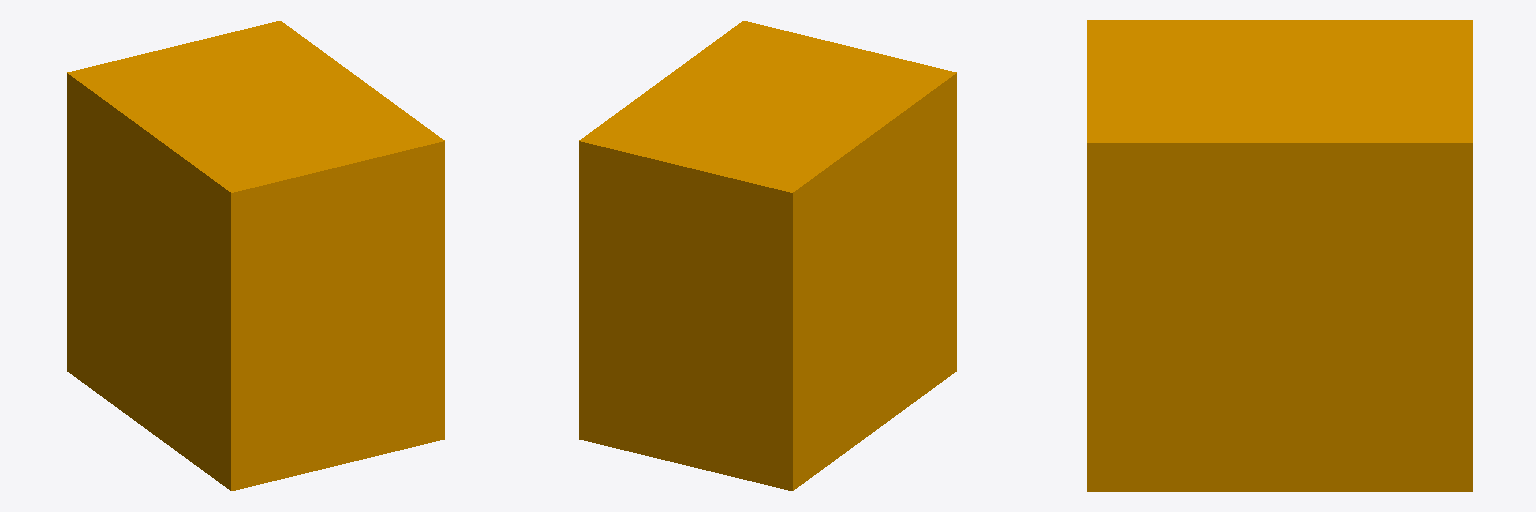
robot.urdf — box:
<robot name="box">

    <!-- <link name="world"/>
  
    <joint name="world_to_base_link" type="fixed">
      <origin xyz="0 0 0" rpy="0 0 0"/>
      <parent link="world"/>
      <child link="mustard_bottle"/>
    </joint> -->
  
    <link name="box_link">
      <inertial>
        <origin xyz="0 0 0.2" />
        <mass value="1.0" />
        <inertia  ixx="0.010" ixy="0.0"  ixz="0.0"  iyy="0.010"  iyz="0.0"  izz="0.010" />
      </inertial>
      <visual>
        <origin xyz="0 0 0.2"/>
        <geometry>
          <box size="0.3 0.4 0.4"/>
        </geometry>
      </visual>
      <collision>
        <origin xyz="0 0 0.2"/>
        <geometry>
          <box size="0.3 0.4 0.4"/>
        </geometry>
      </collision>
    </link>      
  
    <gazebo reference="box_link">
      <kp>10000000.0</kp>
      <kd>1.0</kd>
      <mu1>100000.0</mu1>
      <mu2>100000.0</mu2>
      <minDepth>0.001</minDepth>
    </gazebo>
  
  </robot>

--- Render facts (derived) ---
The picture shows the robot from 3 angles, left to right: view 1: azimuth 30°, elevation 25°; view 2: azimuth 150°, elevation 25°; view 3: azimuth 270°, elevation 25°; orthographic projection.
Model box with 1 links and 0 joints (none), rooted at box_link, posed every joint at zero.
Visible links, largest first — view 1: box_link; view 2: box_link; view 3: box_link.
Boxes of the visible links, bbox=[...] form: box_link: bbox=[67, 21, 444, 490]; box_link: bbox=[579, 21, 956, 490]; box_link: bbox=[1087, 20, 1472, 491].
Size in the robot's own frame: 0.3 by 0.4 by 0.4 metres.
Geometry: primitives only (box / cylinder / sphere), no mesh files.